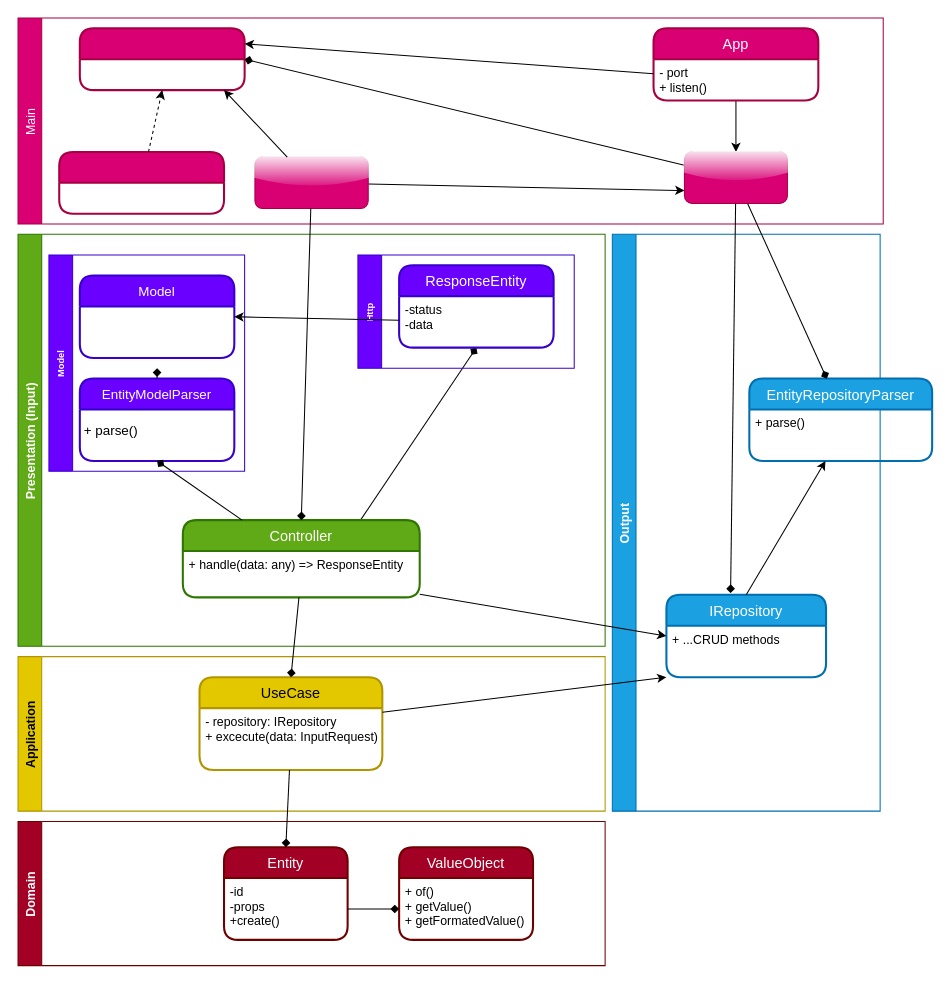
Some shapes in this 951 by 984 pixel diagram are drawn without their labels. The shapes that lost their labels are listed below. From the top down, each one's centre as x and y in pixels, then its label:
At [161,59]: "IServerAdapter".
At [141,182]: "ExpressServerAdapter".
At [311,182]: "Routes".
At [735,177]: "Config".
